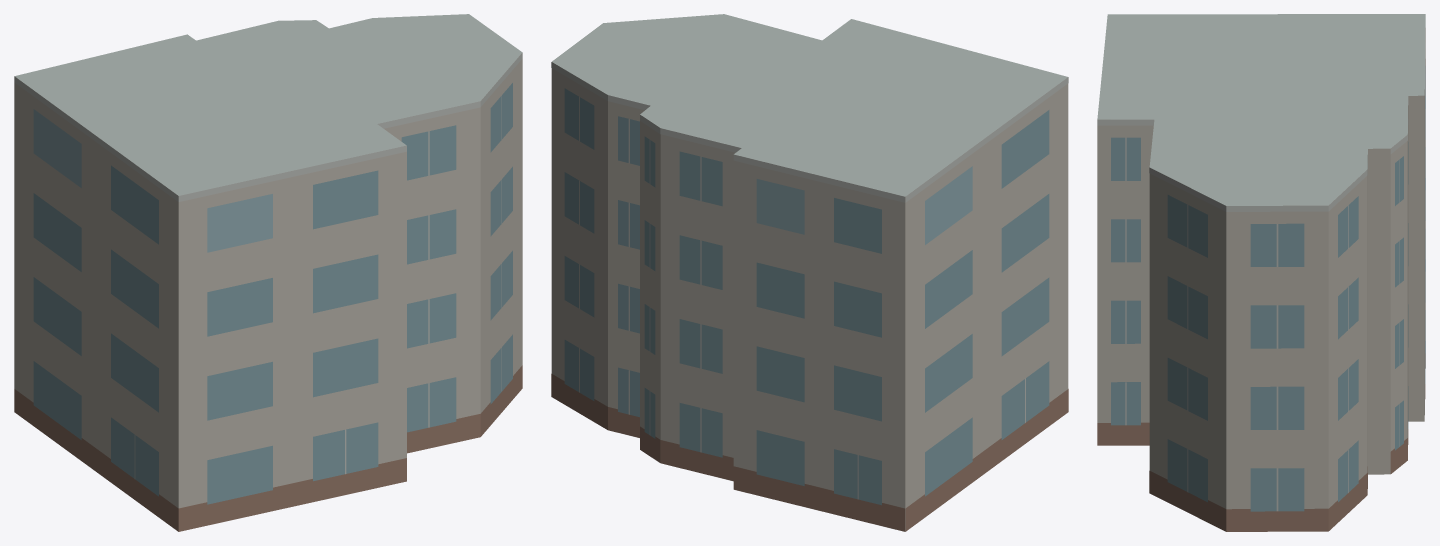
The model's file is survey-upis-32500156.glb.
3 renders of one model, left to right at view 1: azimuth 30°, elevation 25°; view 2: azimuth 150°, elevation 25°; view 3: azimuth 270°, elevation 25°, orthographic. The views are drawn at different scales.
Visible parts, largest first — view 1: survey-upis-32500156.tmp; view 2: survey-upis-32500156.tmp; view 3: survey-upis-32500156.tmp.
Boxes of the visible parts, x1,y1,x2,y2 form: survey-upis-32500156.tmp: [14, 14, 522, 531]; survey-upis-32500156.tmp: [551, 14, 1068, 531]; survey-upis-32500156.tmp: [1097, 14, 1425, 531].
Size of the model in its own units: 16.82 by 13.3 by 12.16.
